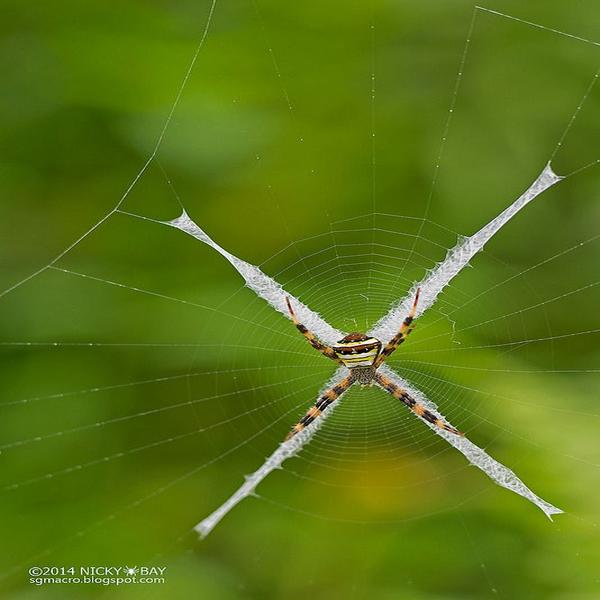St Andrew's Cross Spider: (280, 289, 462, 452)
